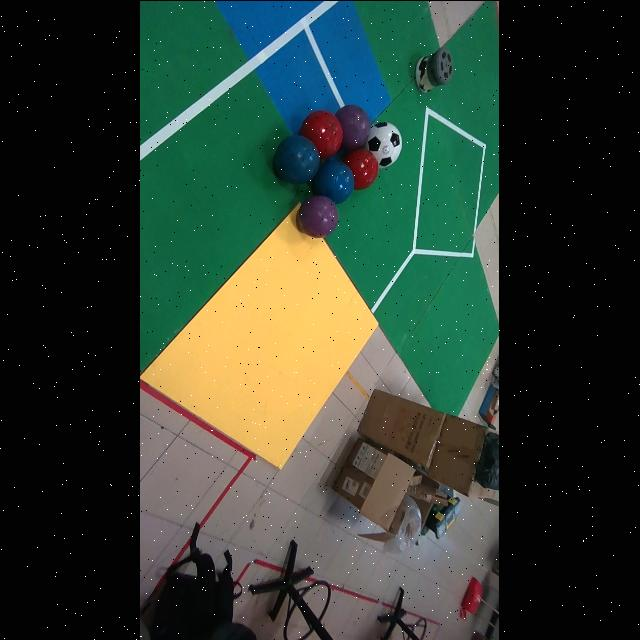B: (274, 135, 320, 183), (314, 162, 354, 203)
P: (298, 195, 339, 238), (336, 103, 372, 151)
R: (300, 109, 344, 158), (345, 148, 378, 189)
